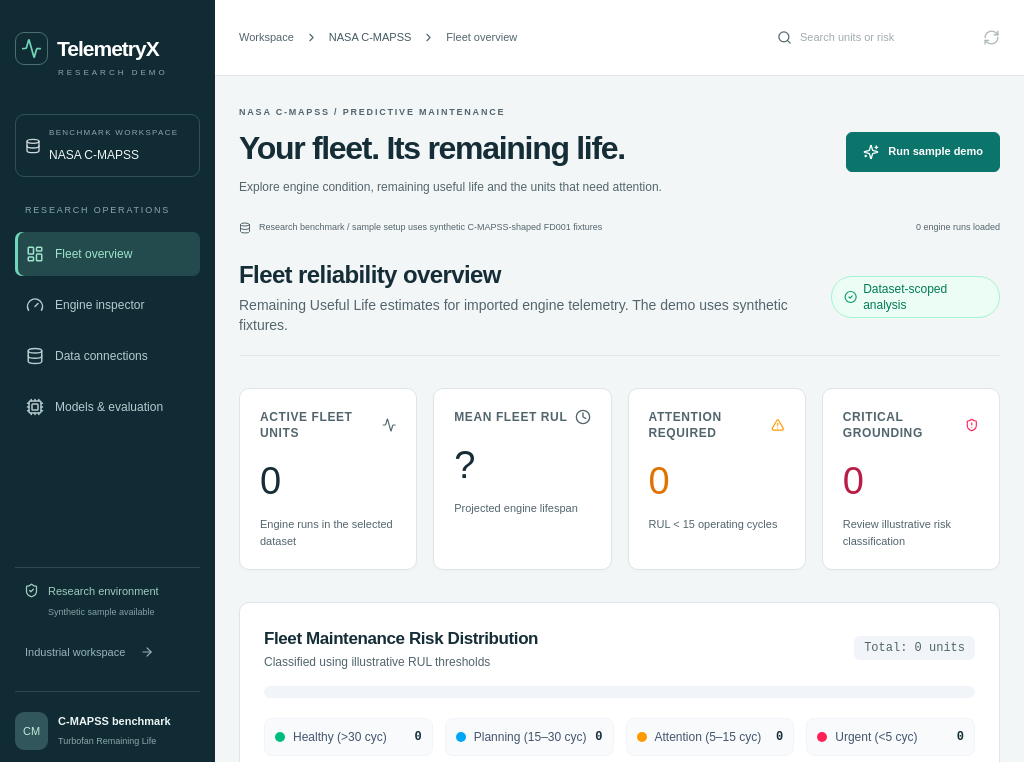
Scenario: background workflow › completes the demo through job results and scopes its refresh to the resulting model
The width and height of the screenshot is (1024, 762).
Click the button "Run sample demo". click: (923, 152)
box: [846,132,1000,172]
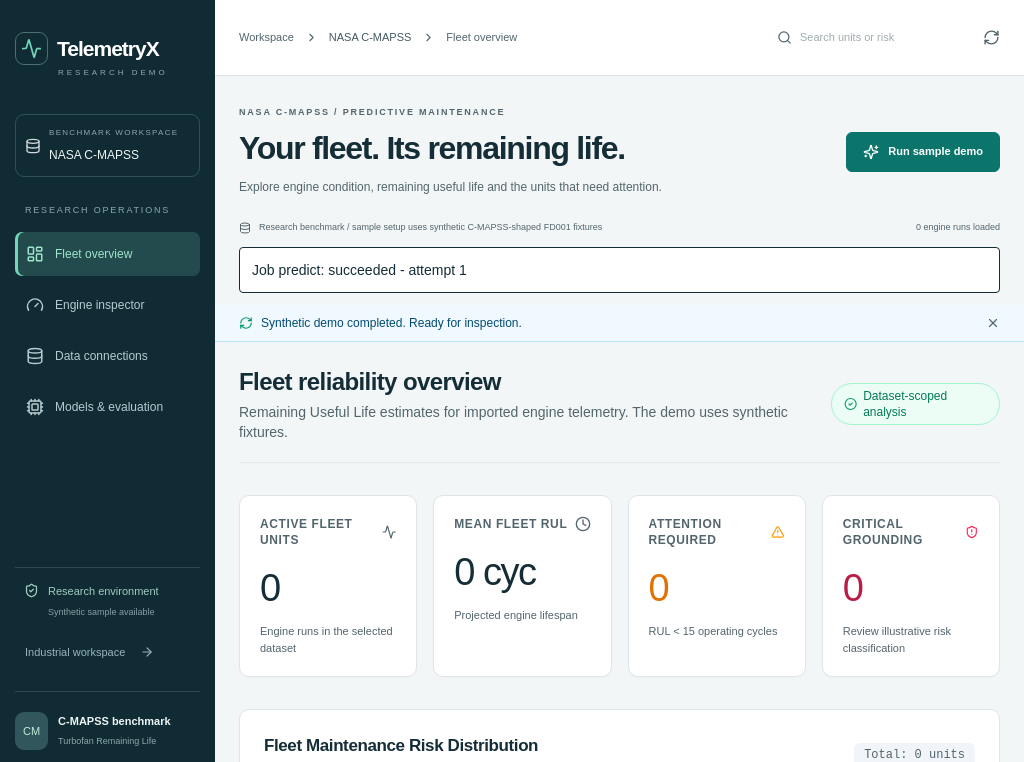
Now the text "Synthetic demo completed. Ready for inspection." is shown, box [261,315,522,331]
Now the message shows "succeeded", box [328,262,396,278]
